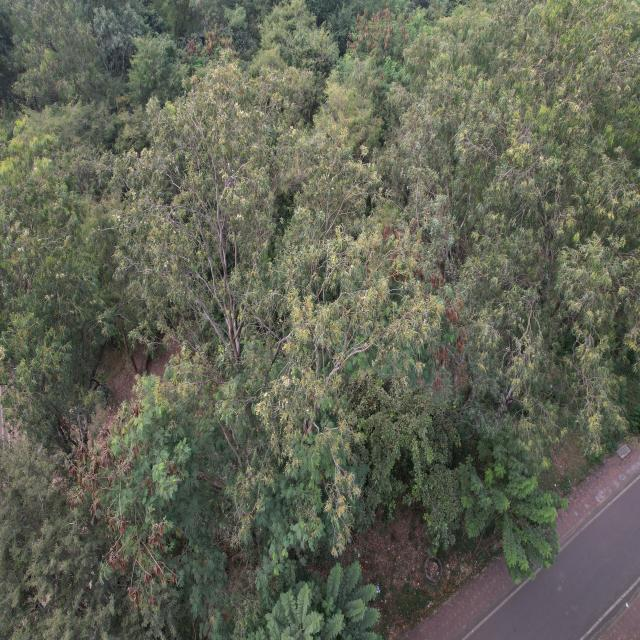Devakanchan tree: (366, 383, 451, 529)
